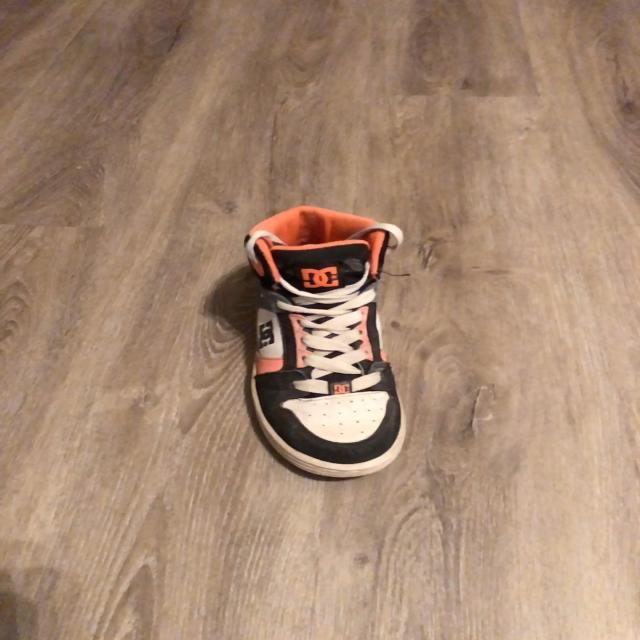shoe: (244, 206, 404, 471)
